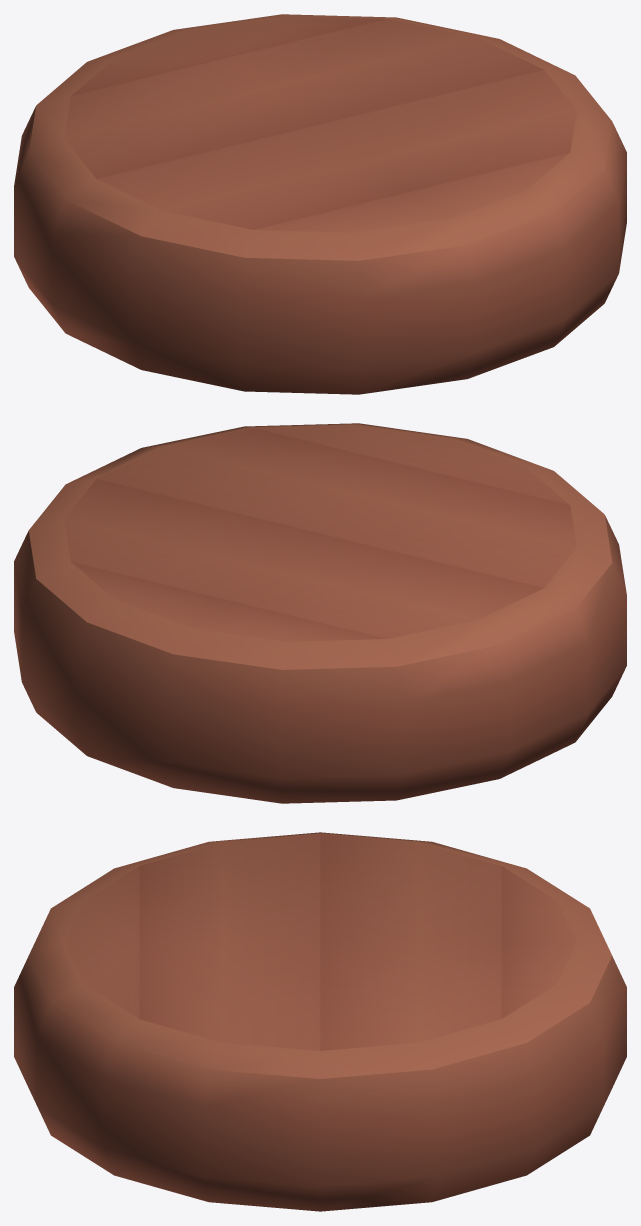
File: food_ingredient_burger_cooked.obj
The picture shows the model from 3 angles, top to bottom: view 1: azimuth 30°, elevation 25°; view 2: azimuth 150°, elevation 25°; view 3: azimuth 270°, elevation 25°; orthographic projection.
Parts seen in each view (by area): view 1: food_ingredient_burger_cooked_Cylinder.051; view 2: food_ingredient_burger_cooked_Cylinder.051; view 3: food_ingredient_burger_cooked_Cylinder.051.
Part boxes in pixels (<box>): food_ingredient_burger_cooked_Cylinder.051: <box>14,14,626,394</box>; food_ingredient_burger_cooked_Cylinder.051: <box>14,423,626,803</box>; food_ingredient_burger_cooked_Cylinder.051: <box>14,832,626,1211</box>.
Size of the model in its own units: 0.7 by 0.2 by 0.7.
Materials: 1 (1 with a texture image).
